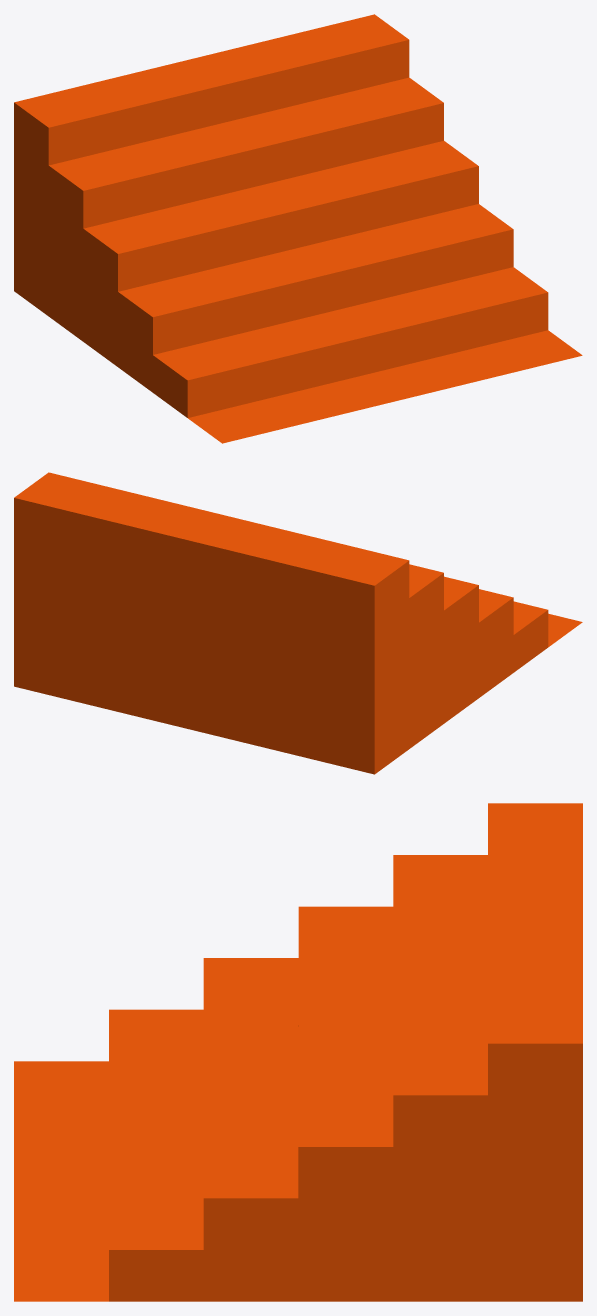
The picture shows the model from 3 angles, top to bottom: view 1: azimuth 30°, elevation 25°; view 2: azimuth 150°, elevation 25°; view 3: azimuth 270°, elevation 25°; orthographic projection. The views are drawn at different scales.
Visible parts, largest first — view 1: T_3_d_0; view 2: T_3_d_0; view 3: T_3_d_0.
Part boxes in pixels (bbox=[...]): T_3_d_0: bbox=[14, 14, 582, 443]; T_3_d_0: bbox=[14, 472, 582, 774]; T_3_d_0: bbox=[14, 803, 582, 1301].
Size of the model in its own units: 99.79 by 49.91 by 99.81.
